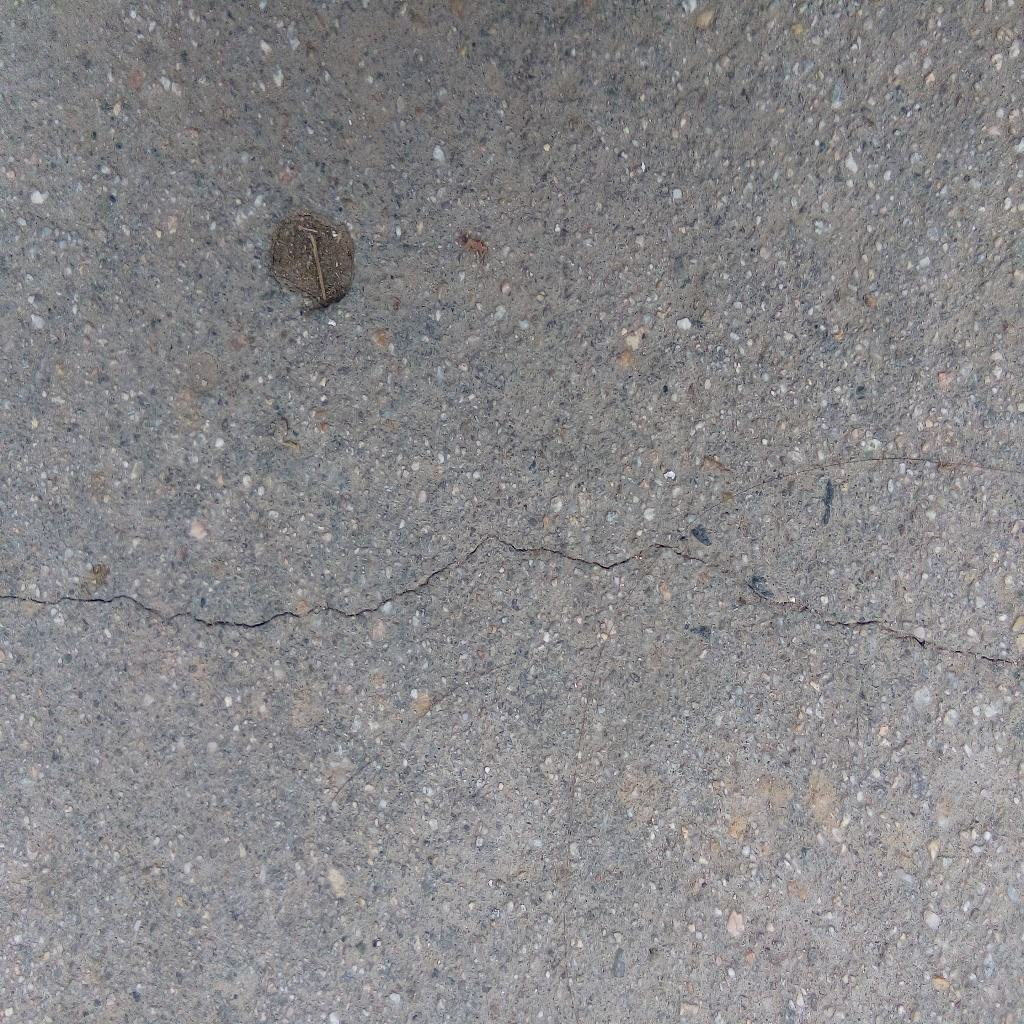Crack: (1, 532, 1024, 667)
Spalling: (263, 207, 356, 309)
